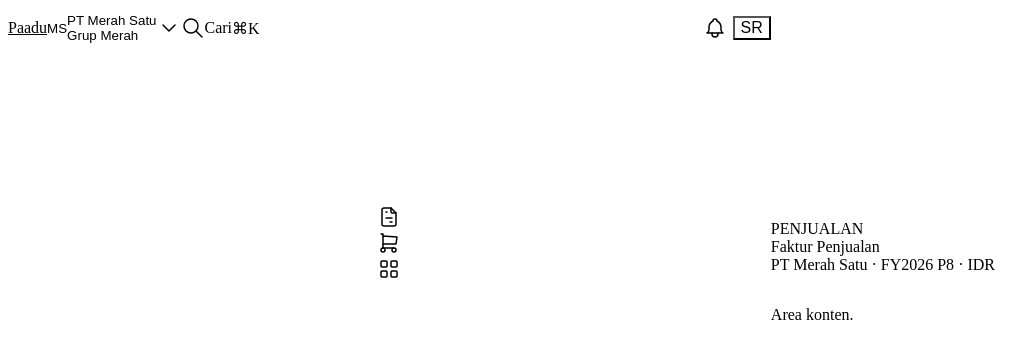
Scenario: Keluar memanggil penangannya, dan menutup menu lebih dulu
Click the button with aria-label "Menu pengguna": {"x": 752, "y": 28} [733,16,771,40]
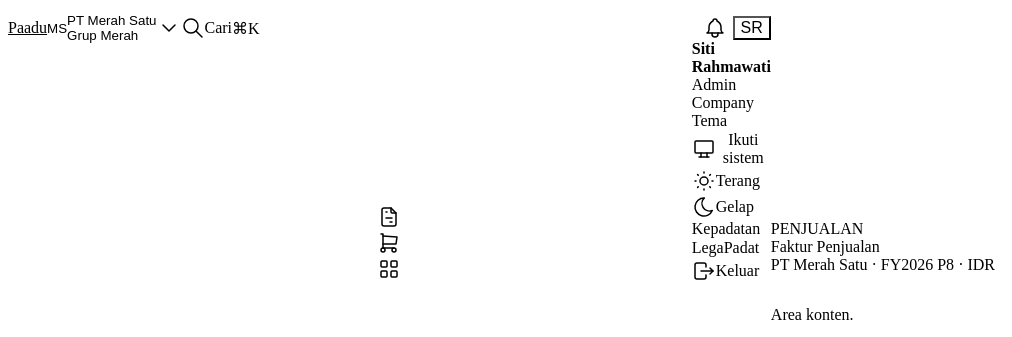
Click the menu item "Keluar": {"x": 731, "y": 271} [692,258,771,284]
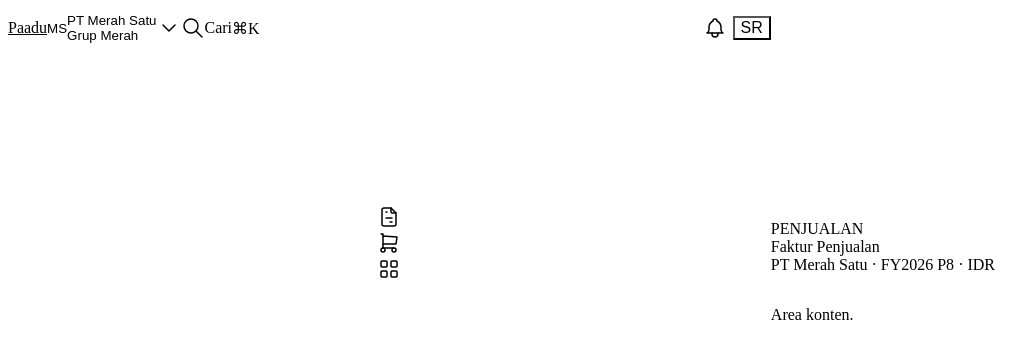
Expected: the menu is gone
